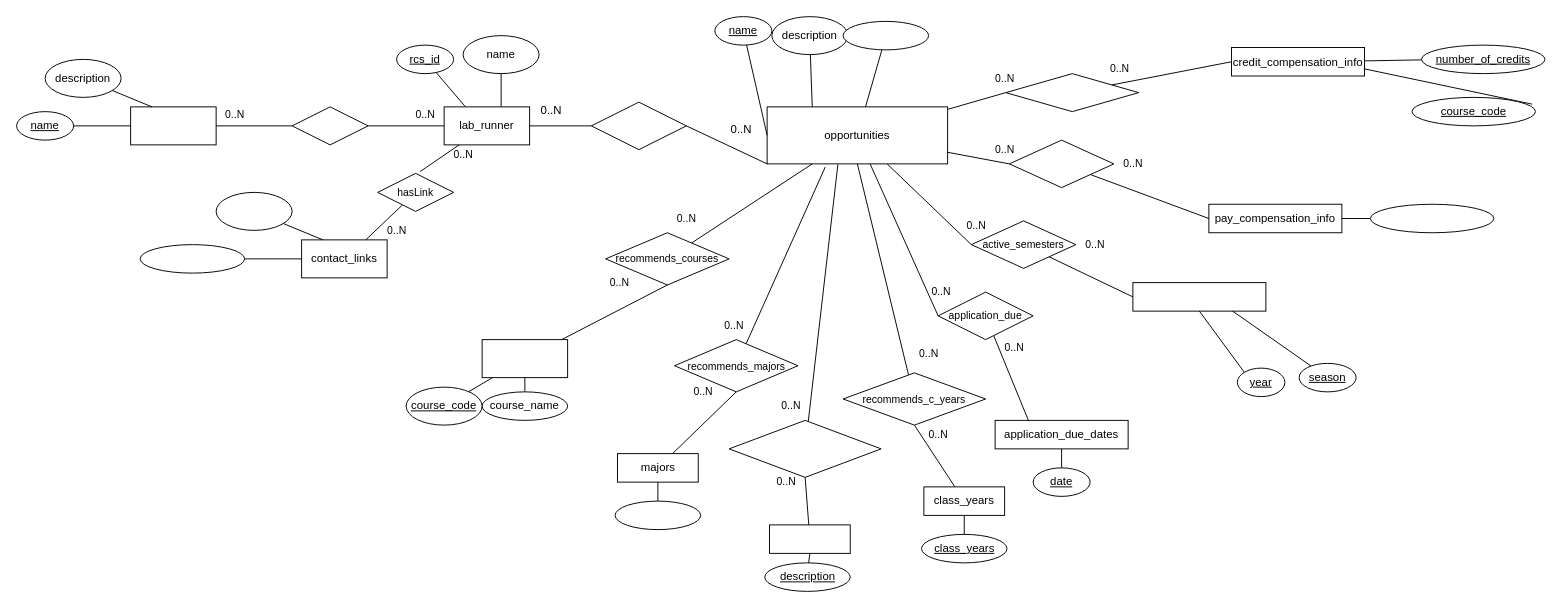
The diagram is 1562 pixels wide and 608 high, and some of its shapes have lost their labels. The shapes that lost their labels are listed below. From the top down, each one's centre as x and y in pixels, then its label:
At [885,35]: "active_status".
At [1072,92]: "has_credit_comp".
At [173,125]: "rpi_departments".
At [329,125]: "isPartOf".
At [638,125]: "promotes".
At [1061,163]: "has_pay_comp".
At [253,210]: "contact_link".
At [1431,218]: "pay_usd_per_hour".
At [192,258]: "contact_type".
At [1199,296]: "semesters".
At [524,358]: "courses".
At [804,448]: "recommends_experiences".
At [657,515]: "major".
At [809,538]: "experiences".
